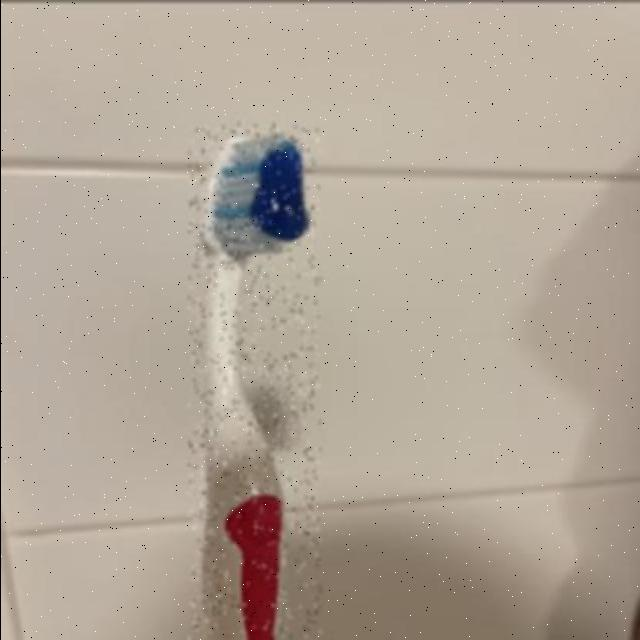toothbrush: (188, 122, 320, 640)
